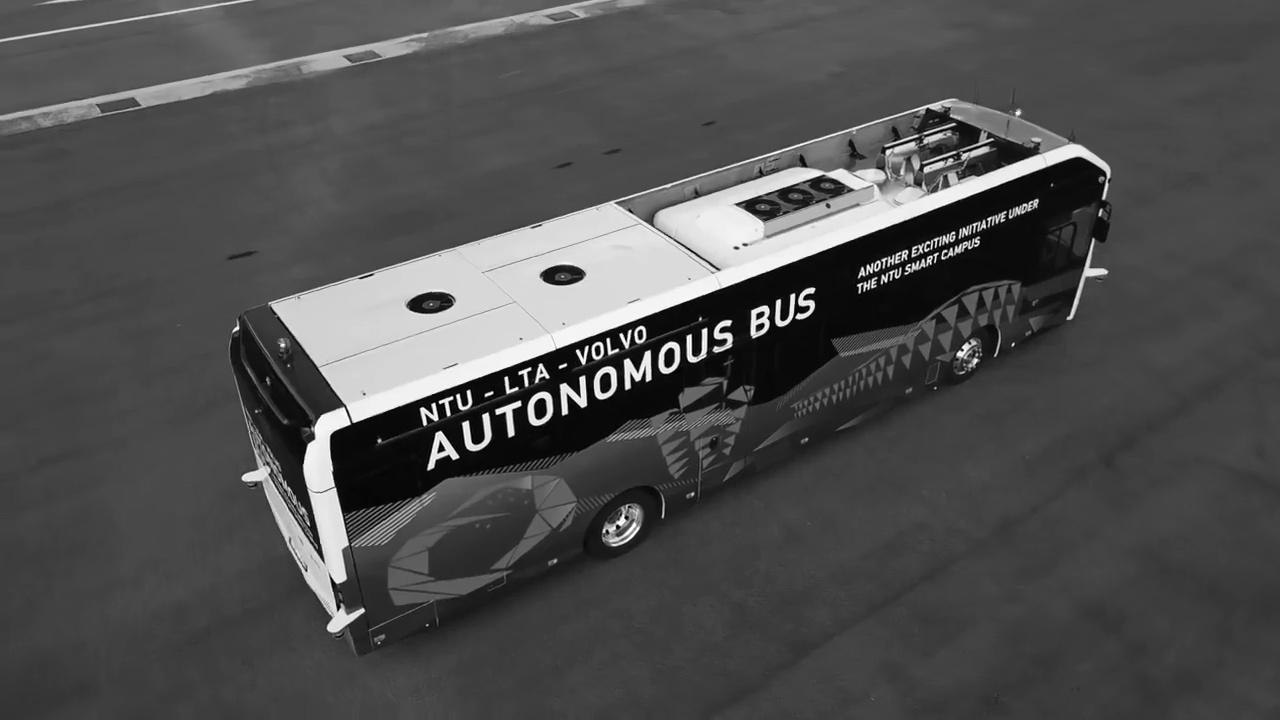Bus: (227, 91, 1113, 657)
